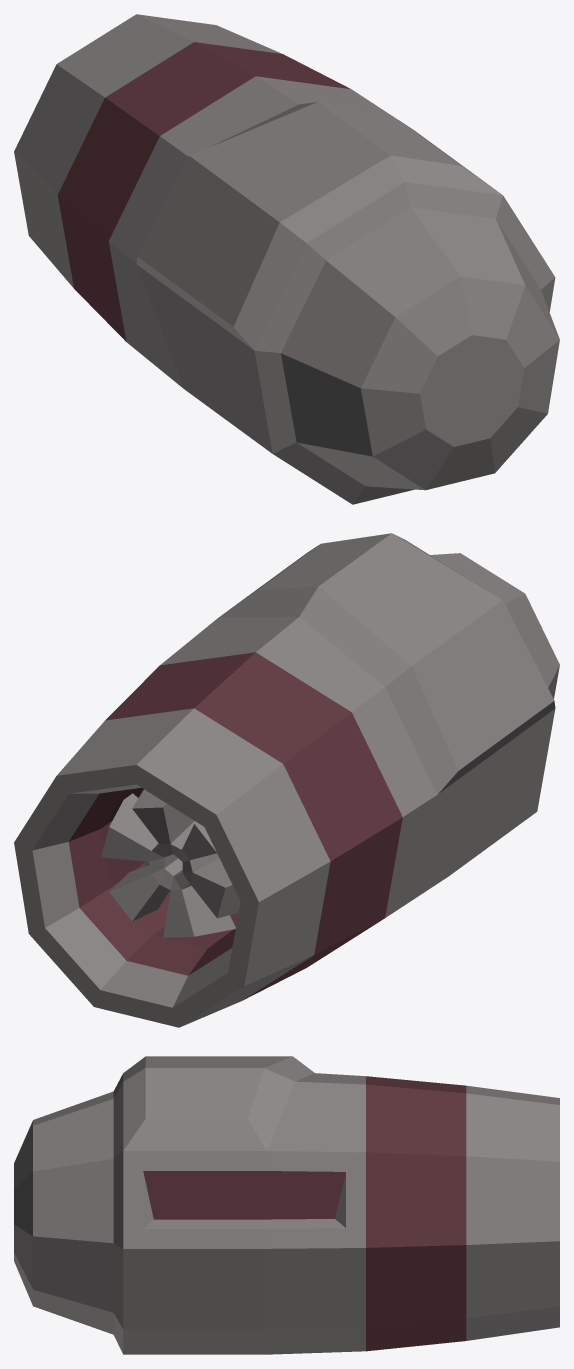
Rendered from scifi-ship-motor.fbx.
3 renders of one model, top to bottom at view 1: azimuth 30°, elevation 25°; view 2: azimuth 150°, elevation 25°; view 3: azimuth 270°, elevation 25°, orthographic. The views are drawn at different scales.
Visible parts, largest first — view 1: scifi-ship-motor; view 2: scifi-ship-motor; view 3: scifi-ship-motor.
Part boxes in pixels (x1,y1,x2,y2): scifi-ship-motor: (14, 14, 559, 504); scifi-ship-motor: (14, 533, 559, 1027); scifi-ship-motor: (14, 1056, 559, 1354).
Bounding box in the file's own units: 4.07 × 4.09 × 7.61.
